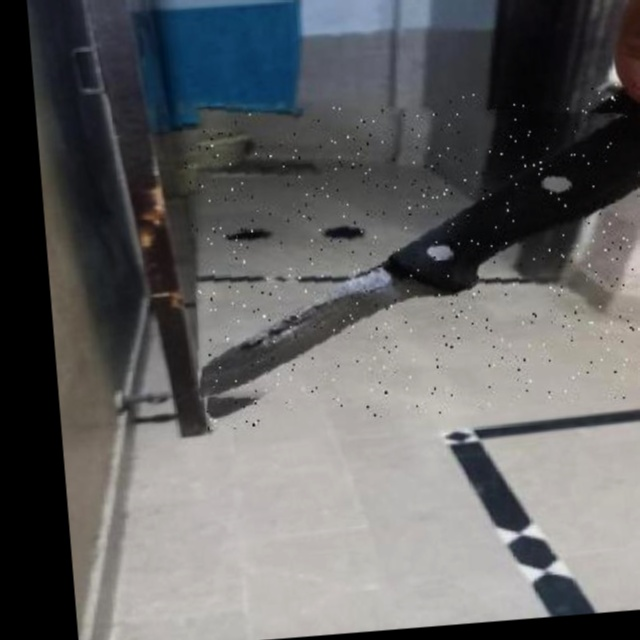Sharp-Object: (182, 79, 640, 432)
